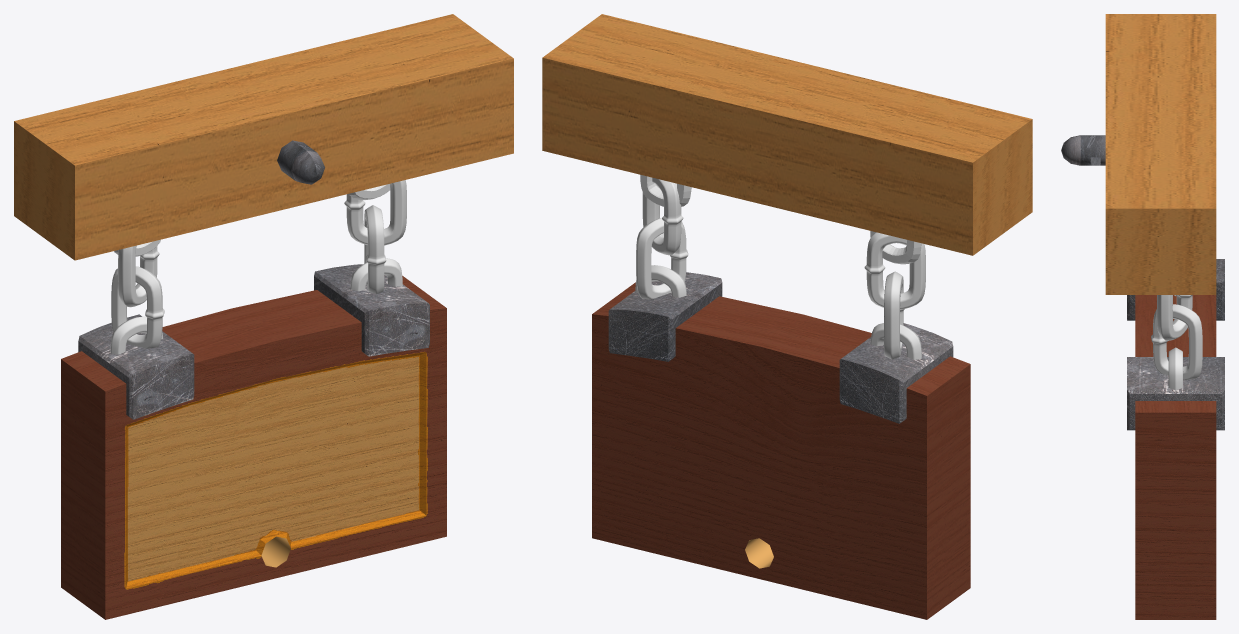
Rendered from Sign-Wooden.FBX.
3 renders of one model, left to right at view 1: azimuth 30°, elevation 25°; view 2: azimuth 150°, elevation 25°; view 3: azimuth 270°, elevation 25°, orthographic. The views are drawn at different scales.
Parts seen in each view (by area): view 1: Weapon-Blocks, Beam-Wood, Box004, Box003, Chain_HP002, Chain_HP004, Chain_HP005, Chain_HP003, Nail, Chain_HP014, Chain_HP015; view 2: Weapon-Blocks, Beam-Wood, Box004, Box003, Chain_HP005, Chain_HP003, Chain_HP004, Chain_HP002, Group001, Chain_HP015, Chain_HP014; view 3: Beam-Wood, Weapon-Blocks, Box003, Chain_HP003, Nail, Chain_HP004, Box004, Chain_HP014.
Boxes of the visible parts, bbox=[...] form: Weapon-Blocks: bbox=[61, 276, 446, 619]; Beam-Wood: bbox=[14, 14, 513, 260]; Box004: bbox=[78, 314, 194, 419]; Box003: bbox=[314, 264, 429, 356]; Chain_HP002: bbox=[111, 266, 164, 348]; Chain_HP004: bbox=[344, 180, 406, 245]; Chain_HP005: bbox=[118, 245, 159, 307]; Chain_HP003: bbox=[364, 205, 386, 293]; Nail: bbox=[277, 140, 324, 184]; Chain_HP014: bbox=[350, 258, 402, 291]; Chain_HP015: bbox=[110, 316, 162, 354]; Weapon-Blocks: bbox=[592, 282, 970, 619]; Beam-Wood: bbox=[542, 14, 1032, 255]; Box004: bbox=[839, 323, 953, 423]; Box003: bbox=[608, 272, 722, 361]; Chain_HP005: bbox=[864, 232, 925, 309]; Chain_HP003: bbox=[636, 218, 688, 299]; Chain_HP004: bbox=[642, 177, 683, 255]; Chain_HP002: bbox=[884, 271, 904, 359]; Group001: bbox=[640, 174, 921, 264]; Chain_HP015: bbox=[870, 323, 921, 359]; Chain_HP014: bbox=[635, 265, 686, 297]; Beam-Wood: bbox=[1105, 14, 1216, 294]; Weapon-Blocks: bbox=[1135, 295, 1216, 619]; Box003: bbox=[1127, 357, 1224, 430]; Chain_HP003: bbox=[1151, 304, 1202, 379]; Nail: bbox=[1061, 135, 1105, 165]; Chain_HP004: bbox=[1157, 295, 1192, 340]; Box004: bbox=[1127, 259, 1224, 320]; Chain_HP014: bbox=[1168, 347, 1183, 390].
Size of the model in its own units: 14.24 by 14.8 by 5.06.
3 materials, 3 textured.
